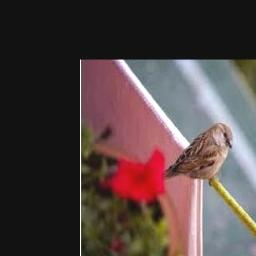Sparrow: (163, 122, 233, 186)
